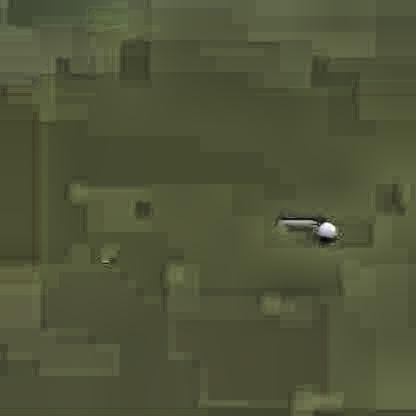golfball: (314, 220, 334, 240)
